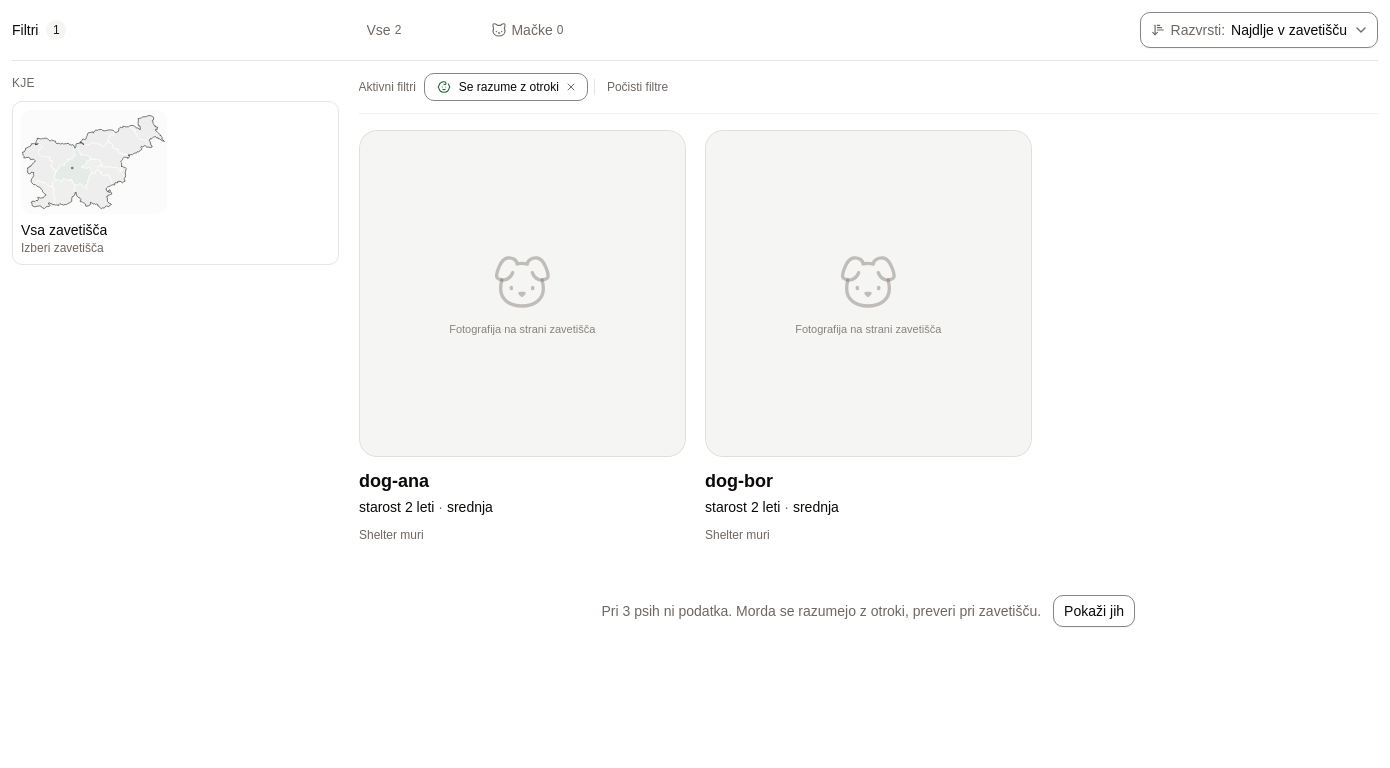
Test: the band once it is shown › goes away again at the hide button, which hands focus back to the offer
Click the button "Pokaži jih".
click(1094, 610)  # box [1053, 594, 1135, 626]
(page scrolled)
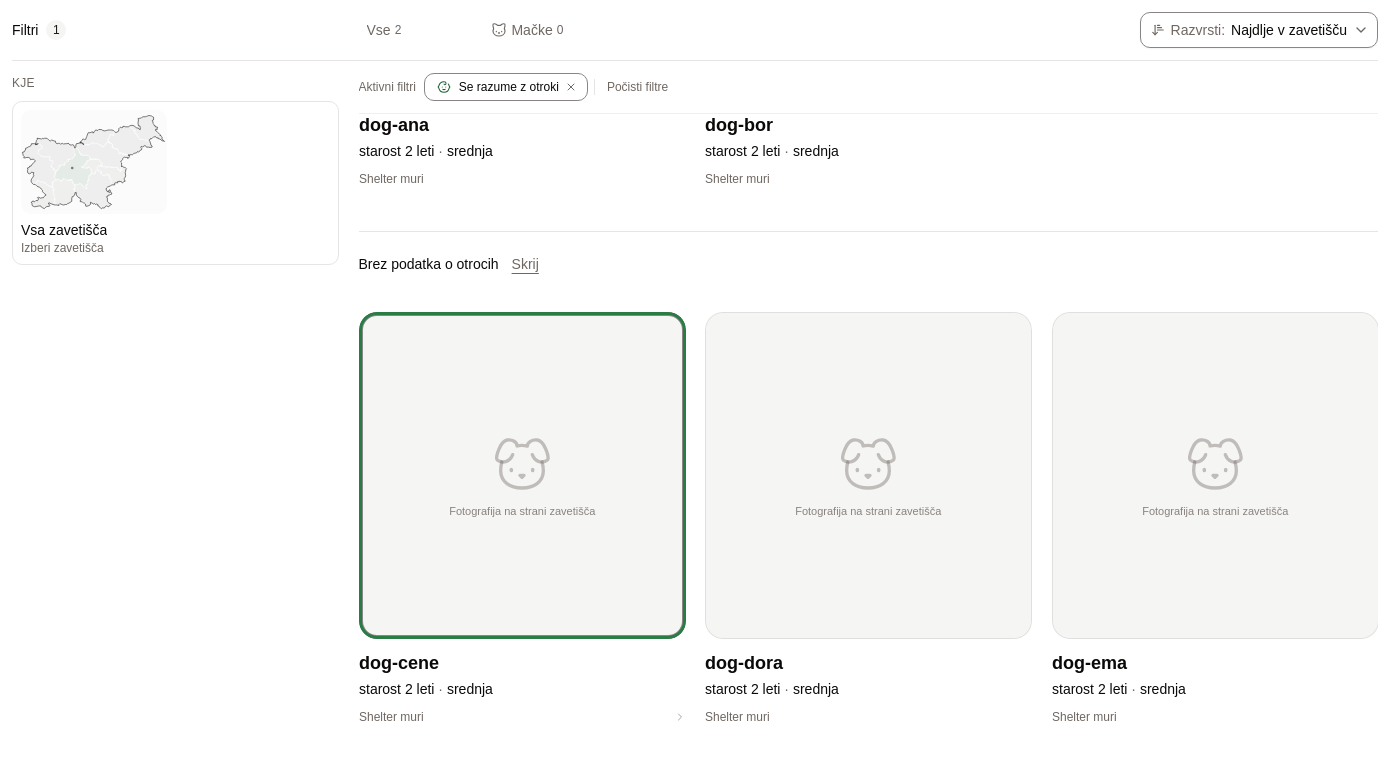
Click the button "Skrij".
click(525, 264)  # box [511, 248, 540, 280]
(page scrolled)
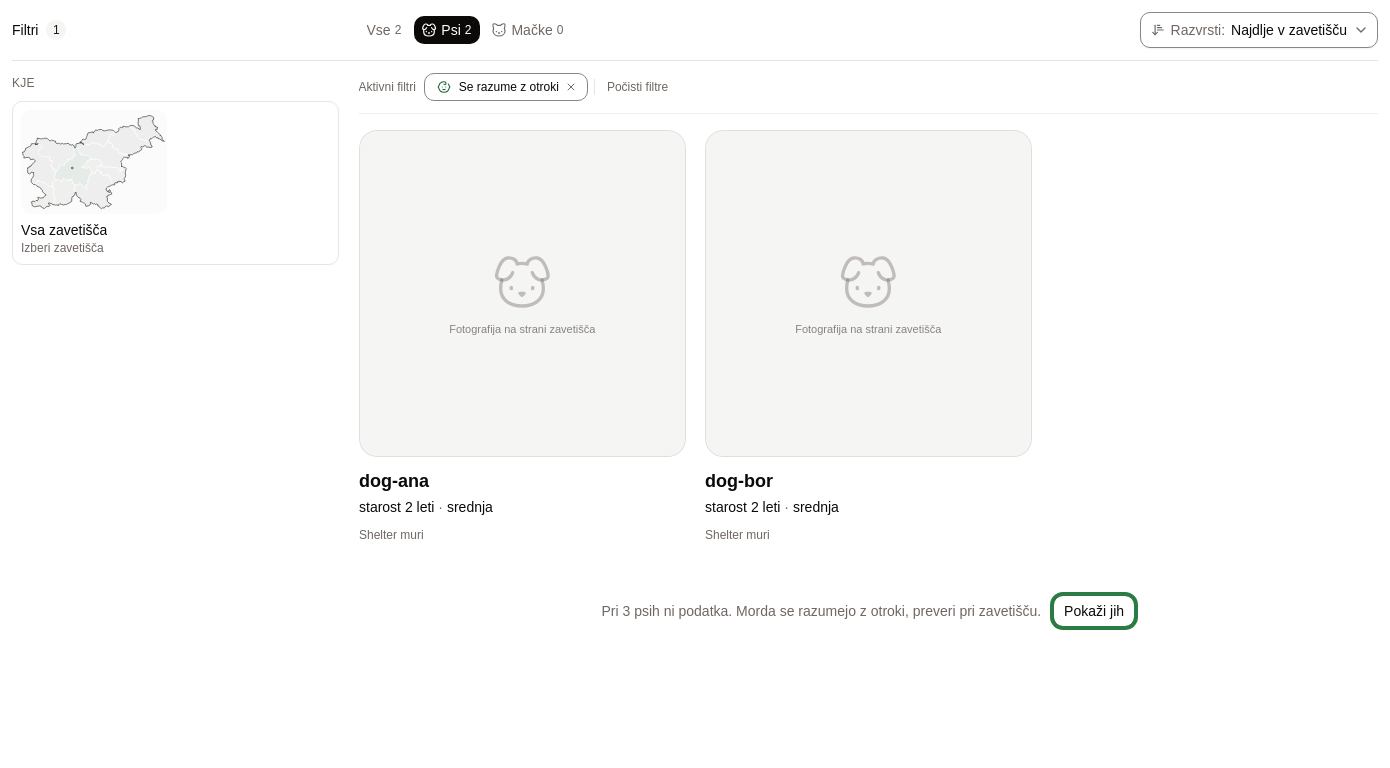
Expected: the heading "Brez " is gone
